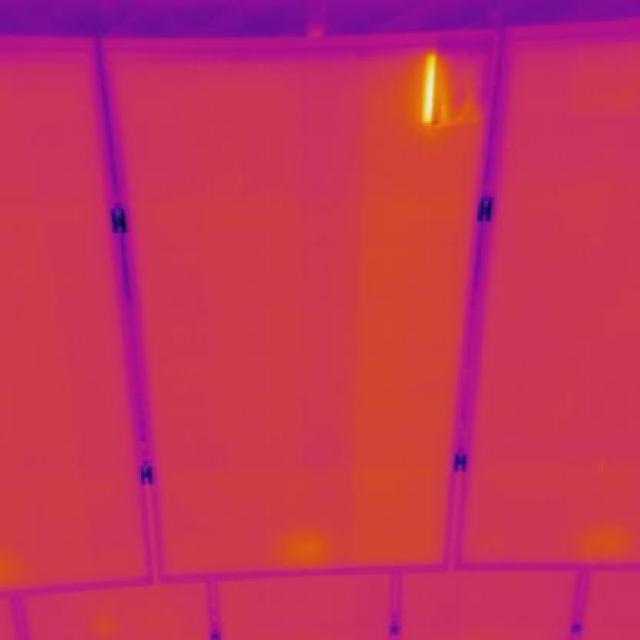hotspot: (412, 32, 486, 132)
